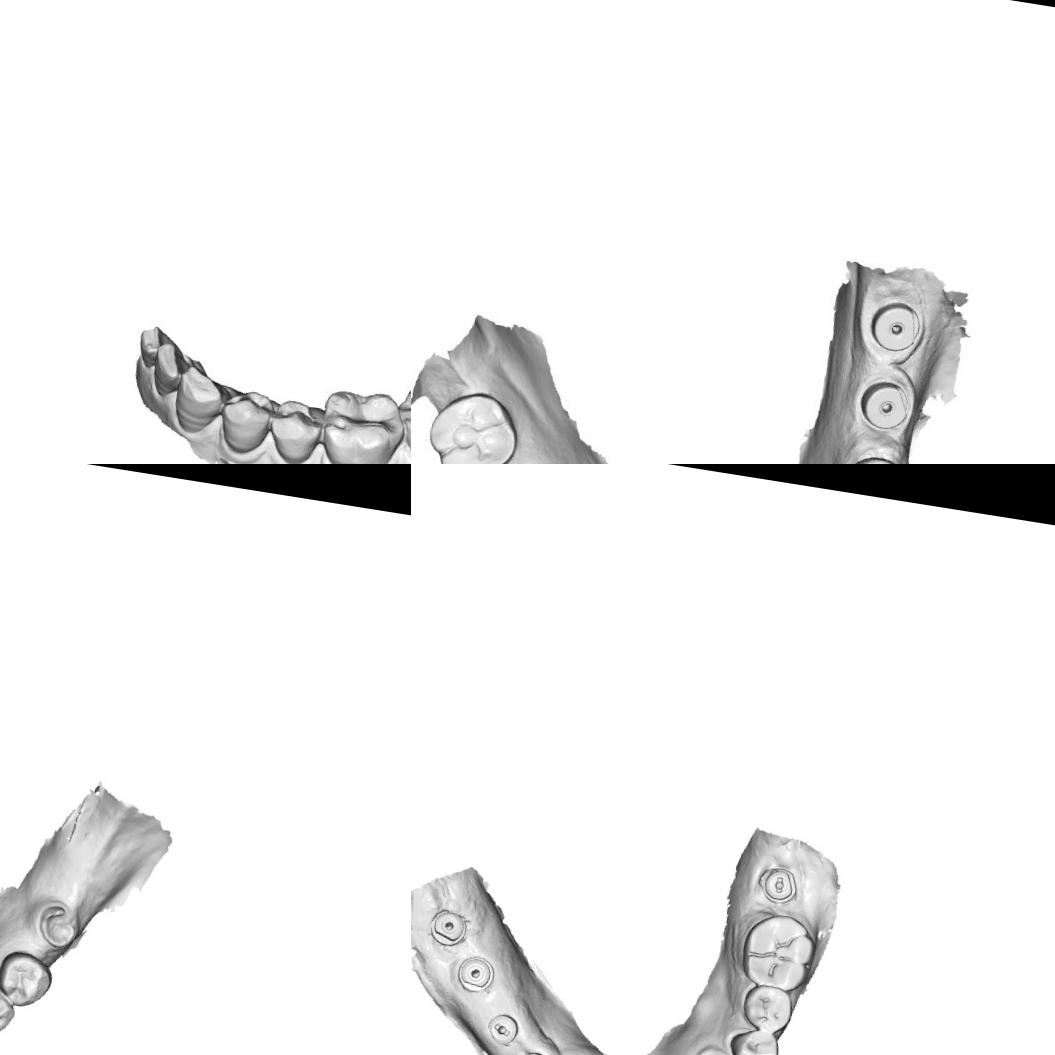canine: (168, 366, 230, 440), (0, 971, 20, 1043)
implant: (868, 295, 929, 363), (853, 374, 918, 437), (453, 952, 498, 996), (428, 907, 470, 950)
implant_minus: (757, 863, 800, 906), (484, 1009, 522, 1048), (514, 1046, 552, 1055)
incisor: (144, 340, 187, 408)
molar: (421, 378, 526, 464), (736, 908, 822, 996), (318, 381, 409, 464)
premolar: (270, 396, 326, 464), (218, 388, 278, 450), (0, 947, 56, 1012), (736, 980, 796, 1037), (723, 1023, 783, 1055), (841, 447, 916, 464)
